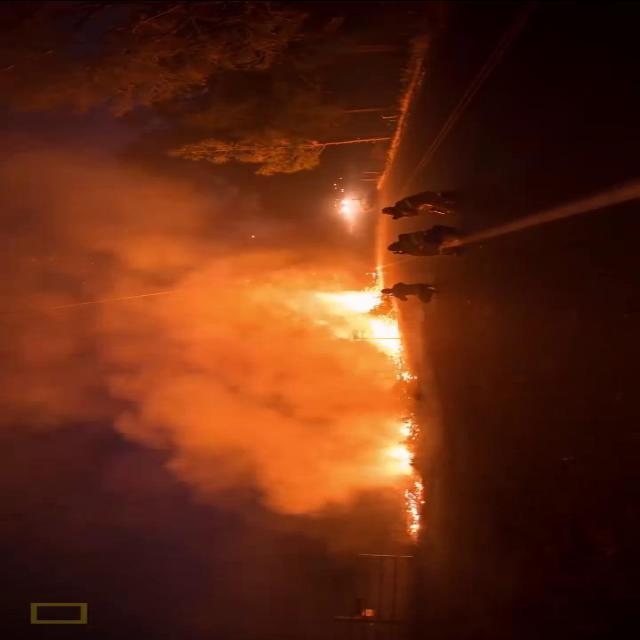Fire: (262, 284, 416, 383), (374, 414, 426, 476), (401, 478, 424, 533)
